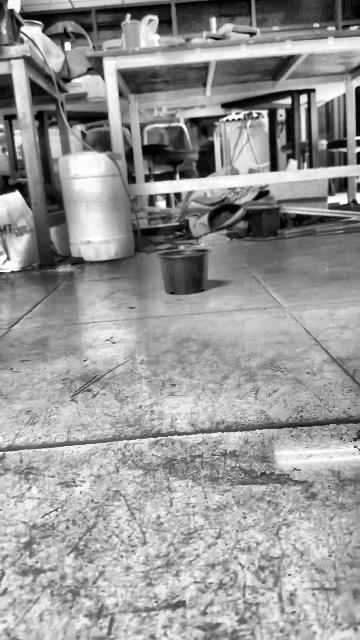pot: (157, 248, 211, 294)
